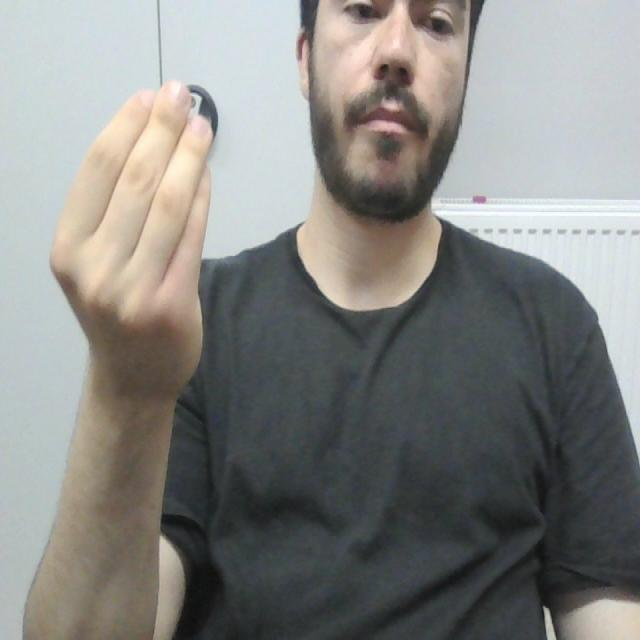iyi: (62, 85, 214, 322)
